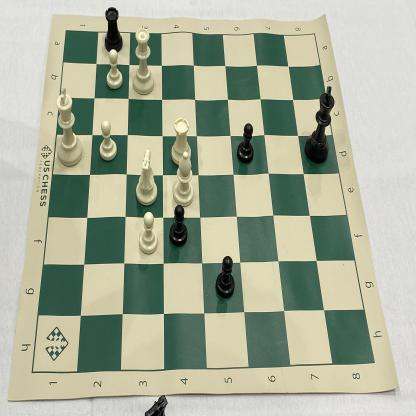black-king: (302, 84, 337, 168)
black-pawn: (213, 252, 239, 302), (166, 202, 191, 248), (235, 119, 257, 169)
black-rook: (100, 2, 126, 57)
white-bishop: (172, 147, 196, 212)
white-king: (53, 82, 86, 171)
white-knight: (133, 146, 160, 208)
white-pawn: (136, 208, 159, 258), (96, 117, 119, 165), (102, 48, 126, 92)
white-queen: (130, 23, 159, 97)
white-rook: (167, 112, 194, 169)
